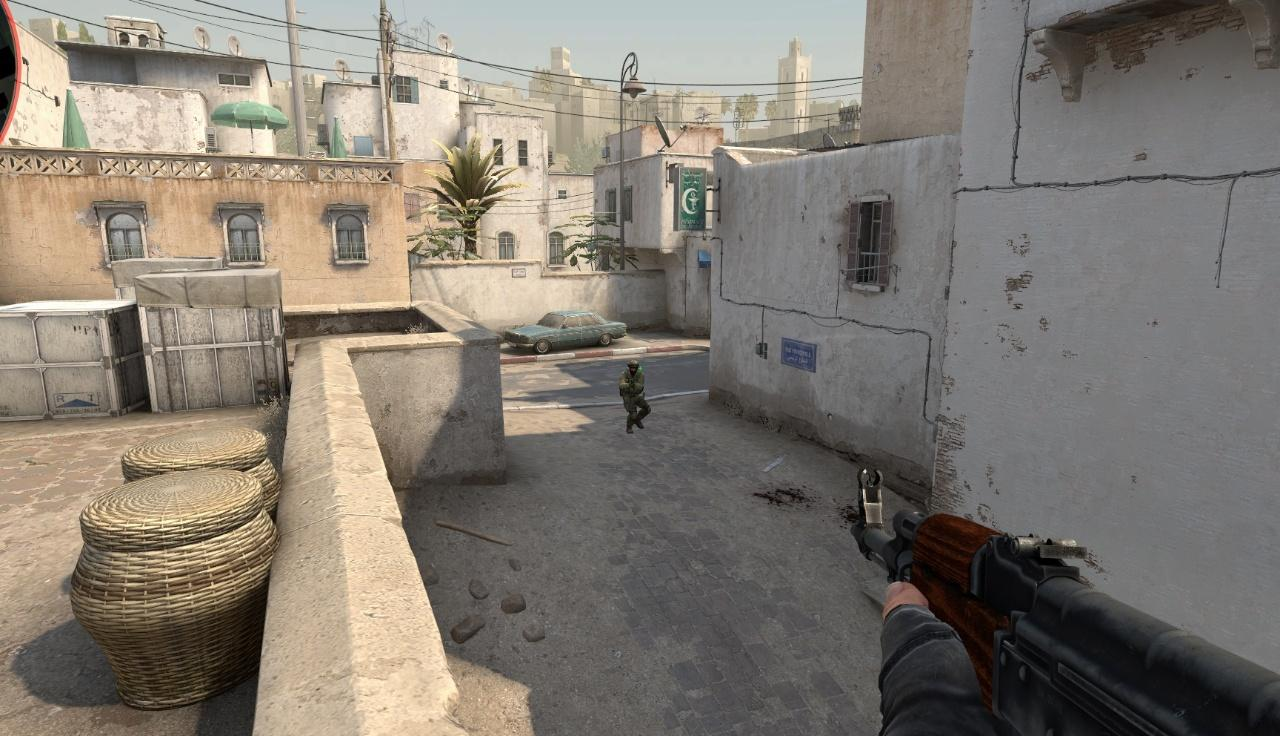ct: (621, 361, 647, 431)
cthead: (629, 361, 639, 374)
rifle: (850, 466, 1280, 736)
